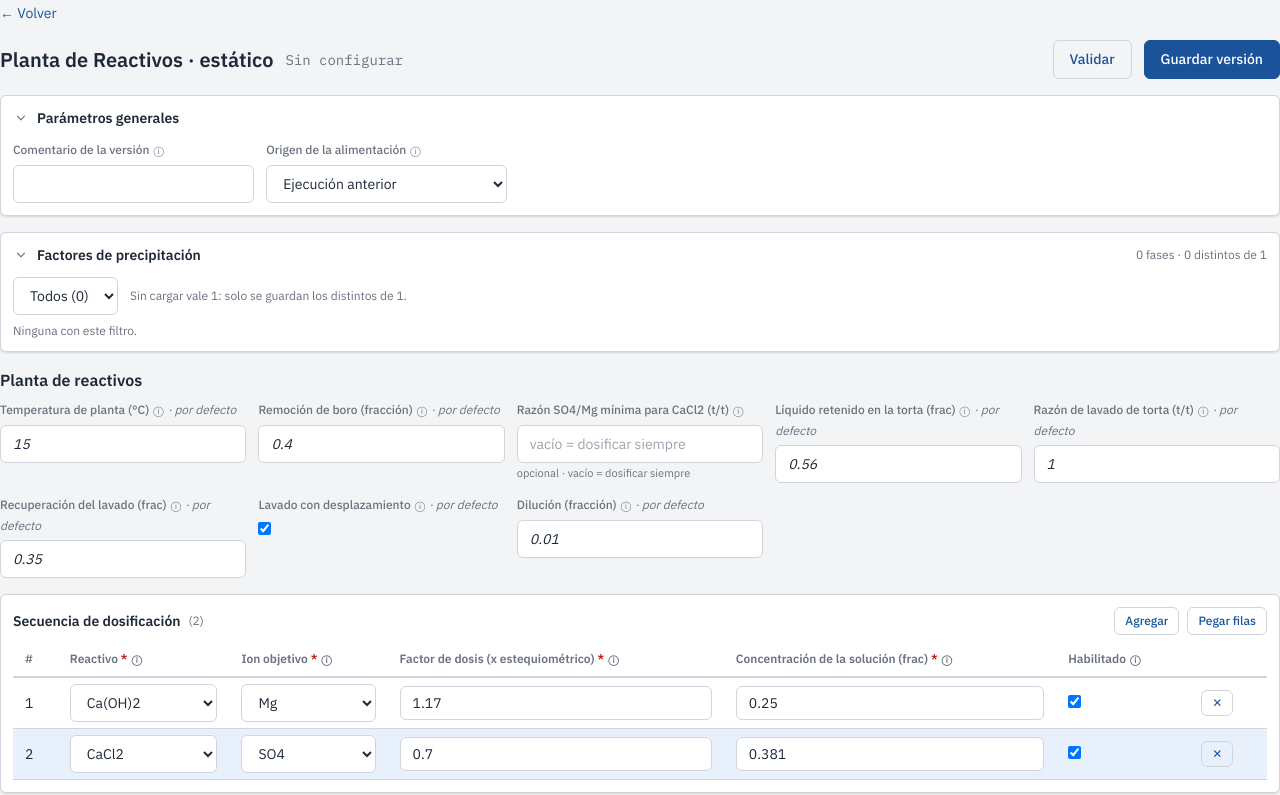
it: valores por defecto (punto 21) › un aviso del backend va en ámbar, no como error, y se guarda igual
Clear the field with test id "field-plant.dilution_frac" at (640, 539), box [517,520,763,558]
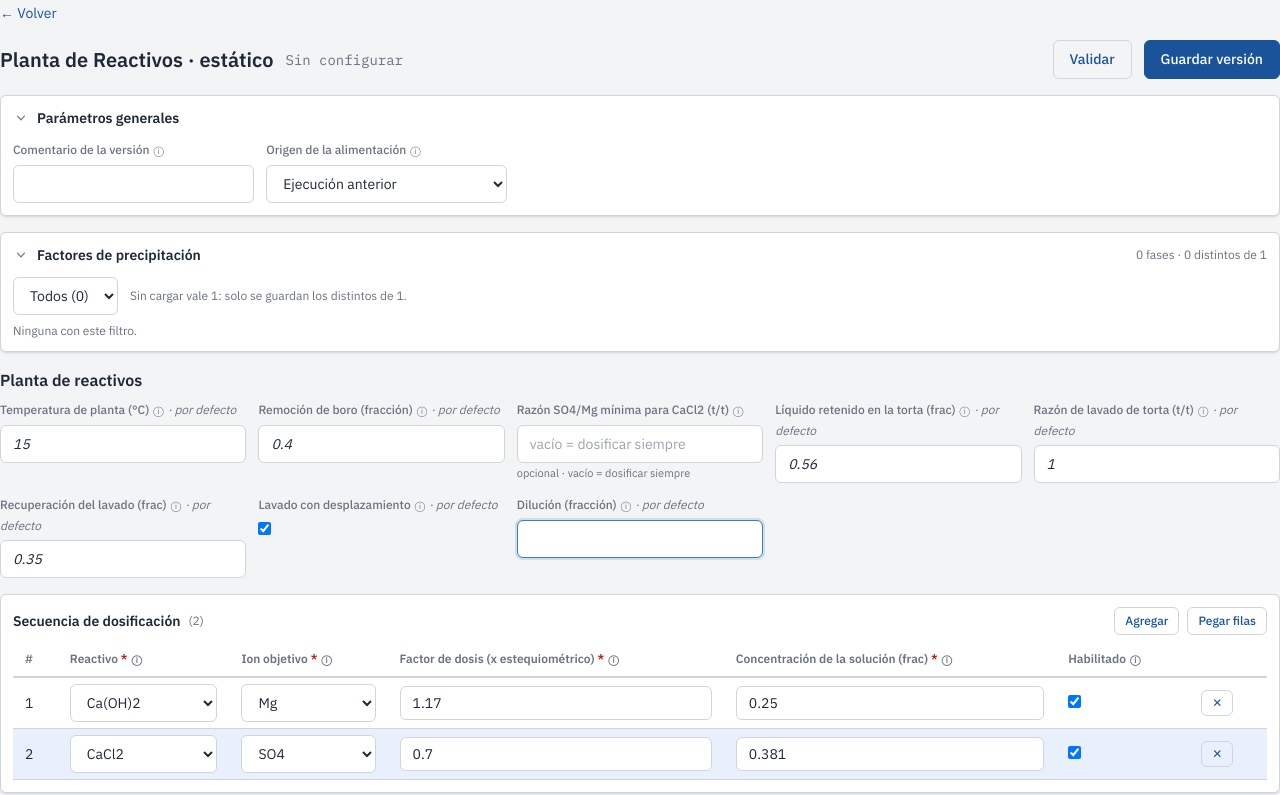
Press Tab
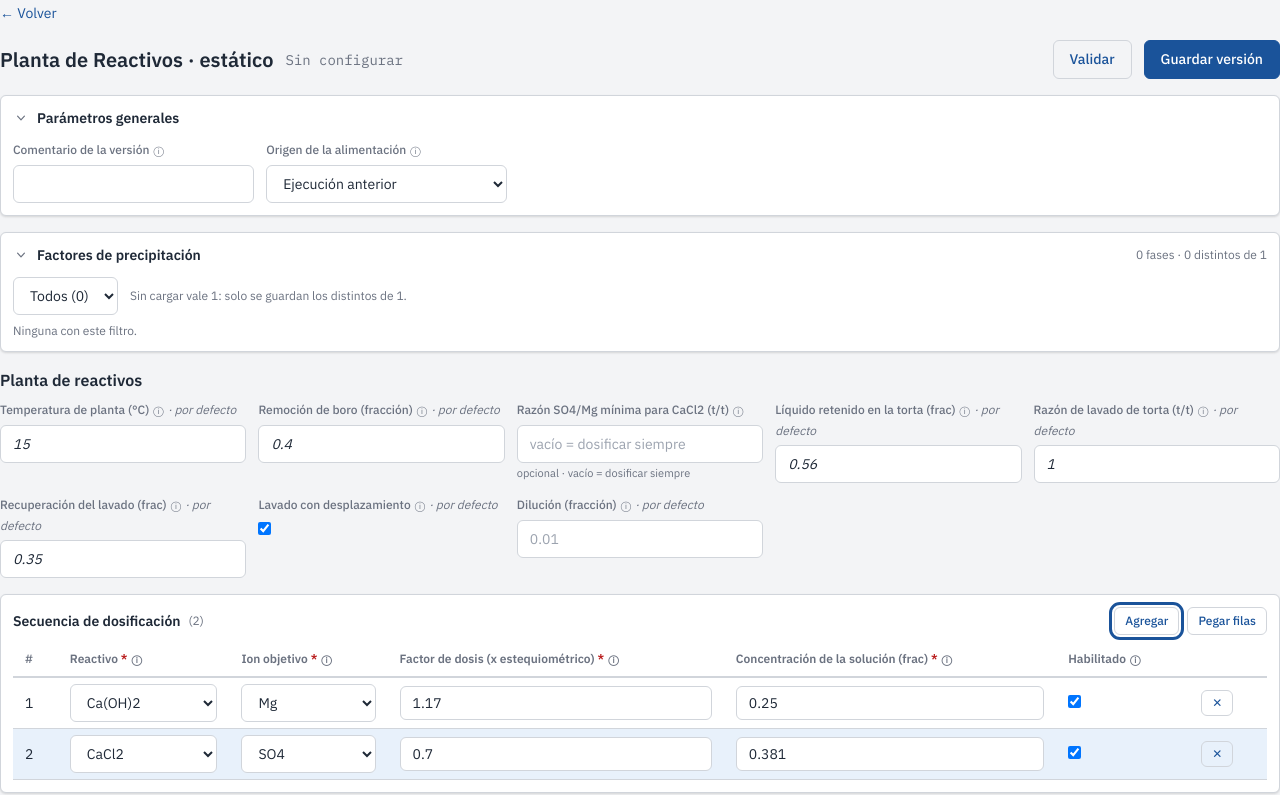
Click the button with test id "save-section".
click(1212, 60)  # box [1144,40,1279,79]
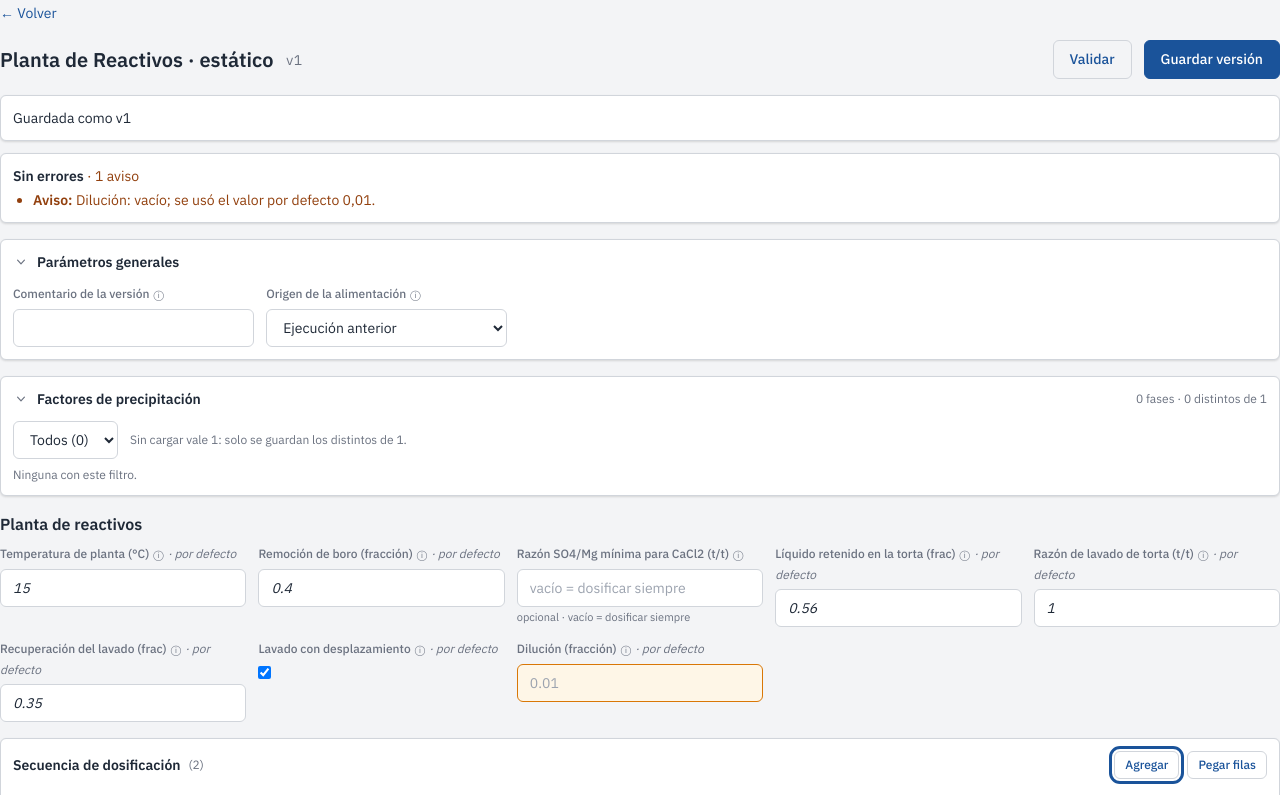
Check: the text with test id "section-notice" shows "v1", box [13,109,131,127]
Check: the element with test id "section-report" shows "Sin errores", box [13,167,84,185]
Check: the text with test id "section-report-warnings" reads "· 1 aviso", box [84,167,139,185]
